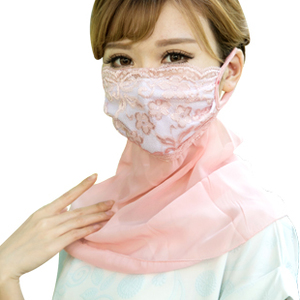face_mask: (104, 0, 220, 152)
